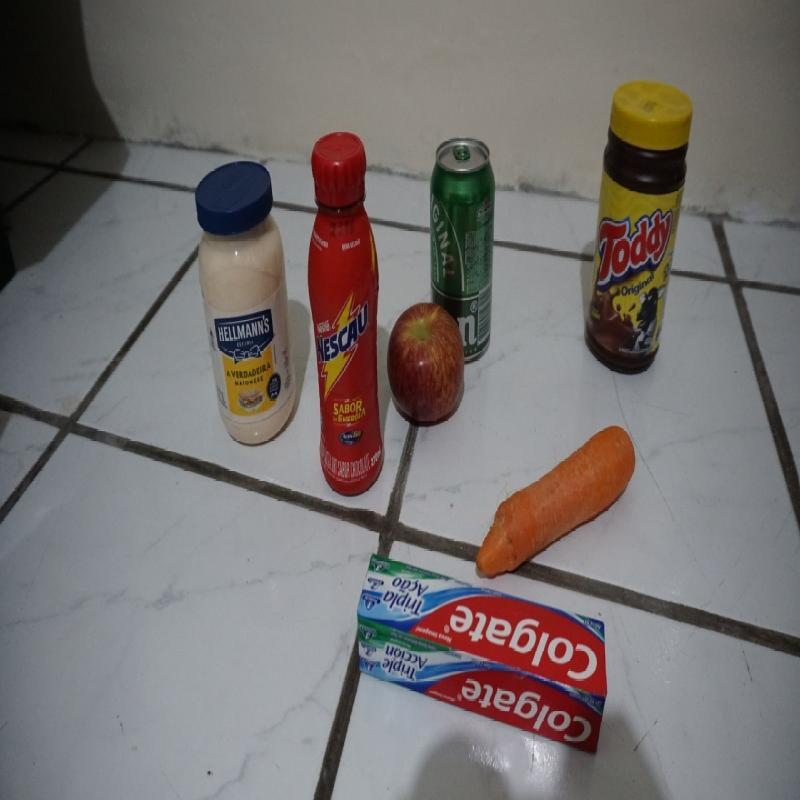Apple: (388, 303, 465, 425)
Beer can: (429, 136, 498, 364)
Carrot: (475, 421, 638, 578)
Chocolate Milk: (308, 128, 384, 497)
Chocolate Powder: (586, 81, 694, 373)
Mayonnaise: (194, 158, 296, 450)
Toothpaste: (355, 554, 608, 753)
